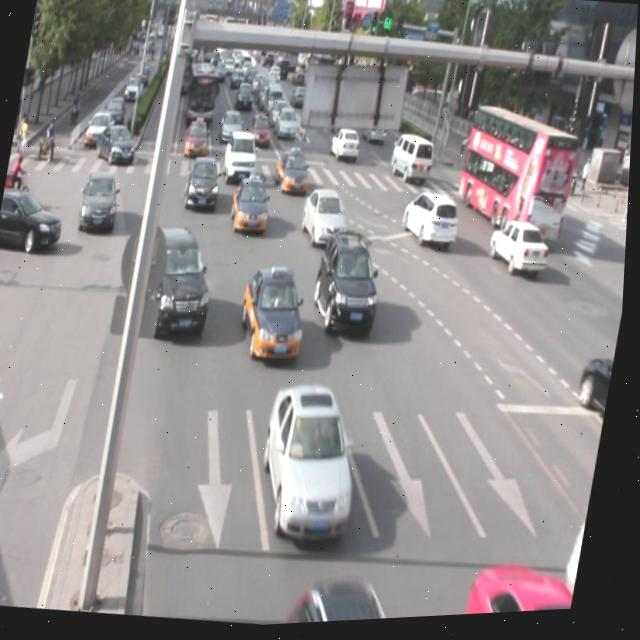car: (255, 378, 377, 549), (140, 225, 224, 344), (310, 229, 393, 340), (236, 264, 316, 366), (468, 559, 584, 620), (487, 219, 556, 283), (399, 191, 464, 254), (299, 186, 356, 254), (78, 169, 126, 235), (228, 175, 276, 239), (184, 155, 227, 217)
van: (453, 105, 581, 250)
